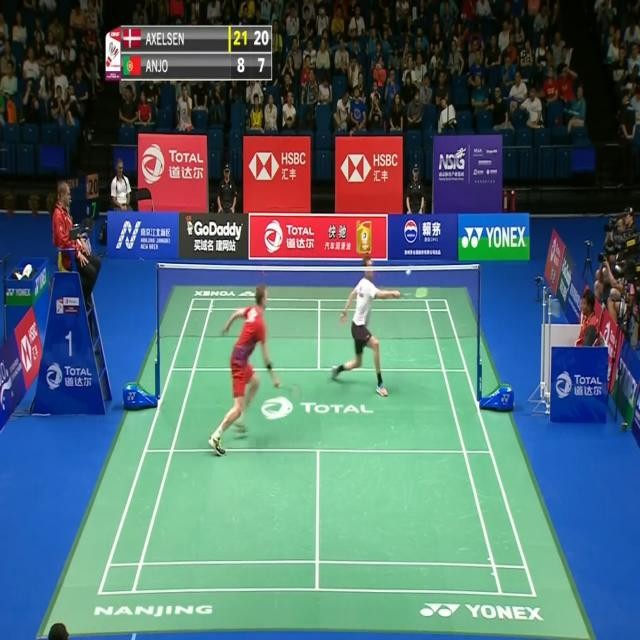Player1: (206, 289, 294, 460)
Player2: (330, 254, 430, 402)
